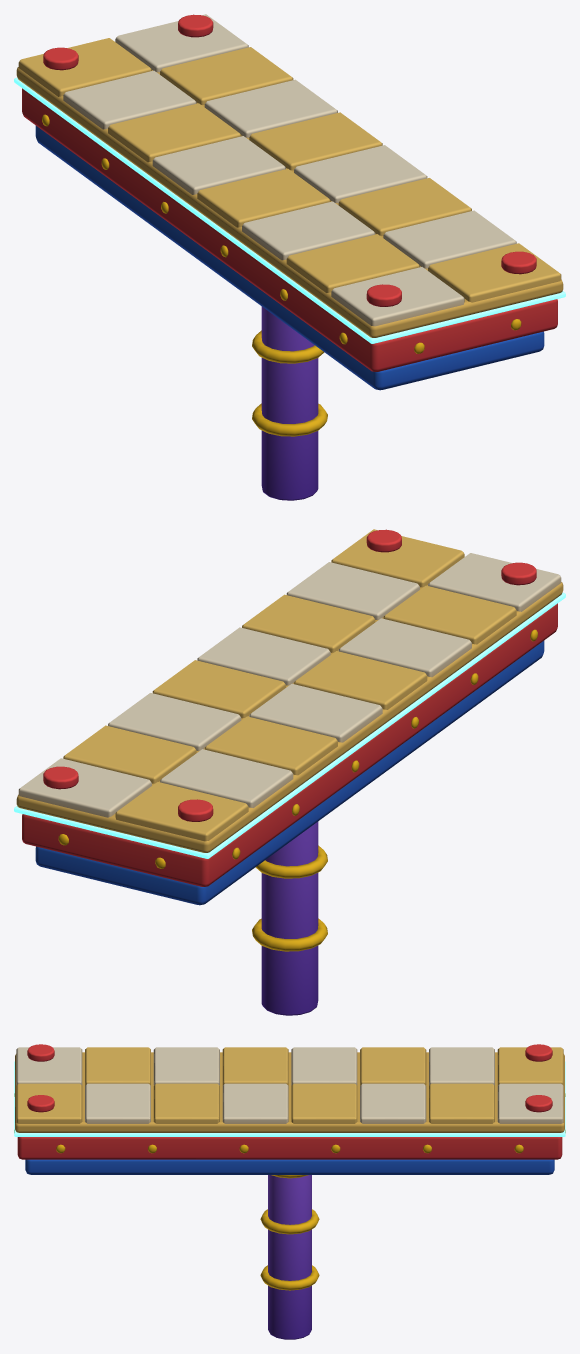
File: PLAT_Toy_Strip.glb
3 views of the same model, one above another, from view 1: azimuth 30°, elevation 25°; view 2: azimuth 150°, elevation 25°; view 3: azimuth 270°, elevation 25° (orthographic). The views are drawn at different scales.
Parts seen in each view (by area): view 1: Body, EdgeGlow; view 2: Body, EdgeGlow; view 3: Body, EdgeGlow.
Part boxes in pixels (left/top/right/bottom): Body: left=16, top=14, right=563, bottom=500; EdgeGlow: left=14, top=77, right=565, bottom=343; Body: left=16, top=529, right=563, bottom=1015; EdgeGlow: left=14, top=592, right=565, bottom=858; Body: left=14, top=1044, right=565, bottom=1339; EdgeGlow: left=14, top=1061, right=565, bottom=1136.
Size of the model in its own units: 2.53 by 4.12 by 8.03.
